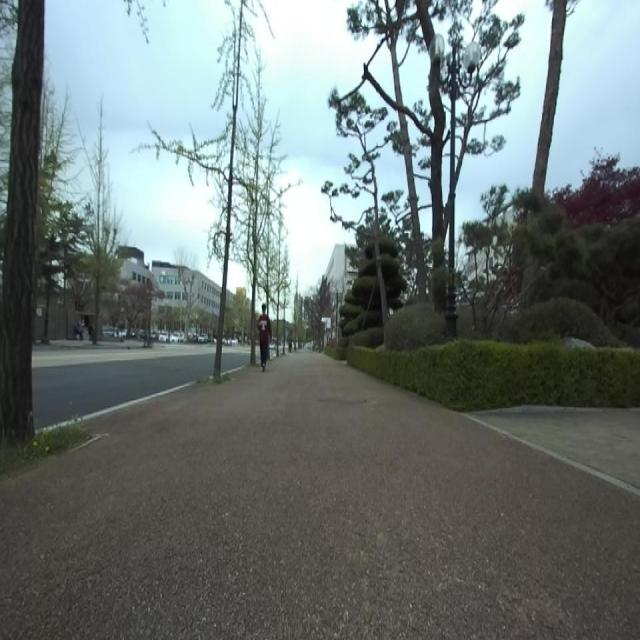sidewalk: (0, 354, 640, 639), (82, 380, 196, 420), (38, 420, 70, 431), (226, 366, 244, 373)
